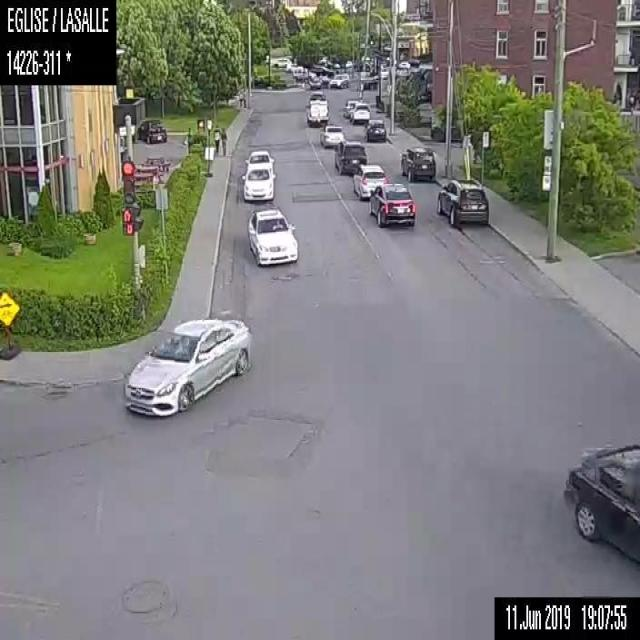pedestrian: (220, 126, 228, 158), (212, 123, 219, 156), (238, 91, 245, 109)
vehicle: (121, 315, 253, 416), (563, 444, 639, 564), (245, 206, 297, 266), (433, 175, 488, 229), (366, 182, 415, 228), (398, 145, 436, 182), (352, 160, 387, 199), (241, 163, 274, 201), (333, 138, 367, 174), (138, 118, 166, 143), (305, 96, 329, 125), (317, 122, 343, 147), (245, 148, 274, 164), (365, 118, 386, 140), (350, 101, 369, 123), (328, 72, 350, 88), (343, 98, 357, 119), (272, 56, 290, 67), (309, 90, 325, 101), (310, 76, 322, 88)
